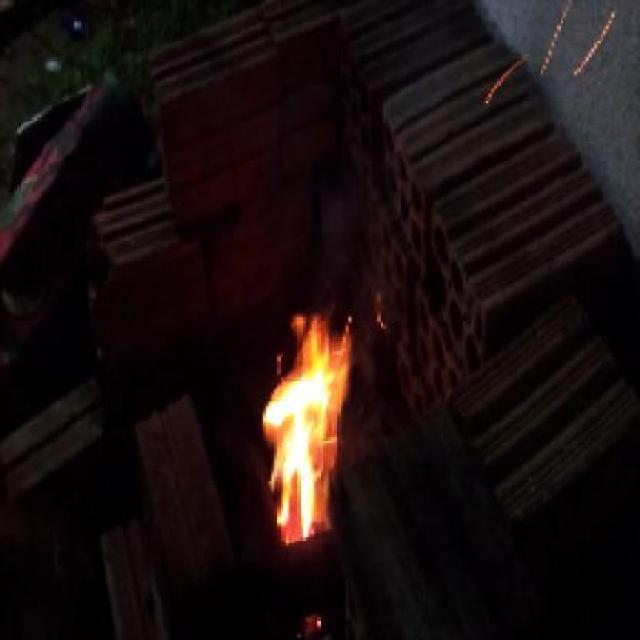fire: (262, 314, 349, 542)
